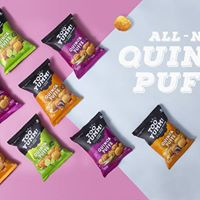tooyumm: (83, 122, 106, 144), (146, 116, 166, 137), (56, 24, 75, 46), (22, 128, 39, 150), (34, 69, 50, 92)
wrapper: (19, 57, 86, 123), (9, 112, 77, 177), (41, 11, 107, 77), (133, 103, 194, 170), (76, 108, 133, 172), (1, 9, 38, 70), (1, 78, 29, 126), (1, 138, 20, 184)
